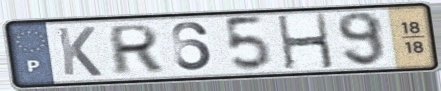5: (220, 13, 275, 75)
6: (169, 21, 216, 74)
9: (335, 10, 387, 69)
H: (274, 12, 337, 72)
K: (54, 25, 105, 78)
R: (109, 22, 165, 77)
